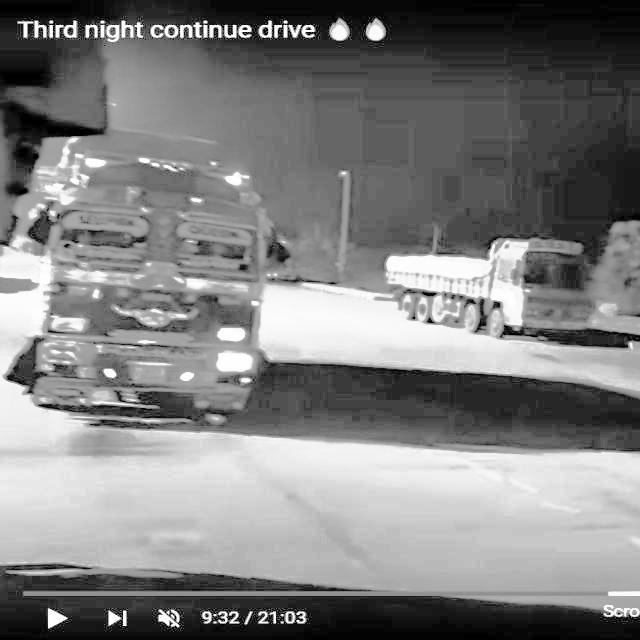Truck: (16, 128, 282, 423), (382, 229, 596, 339)
